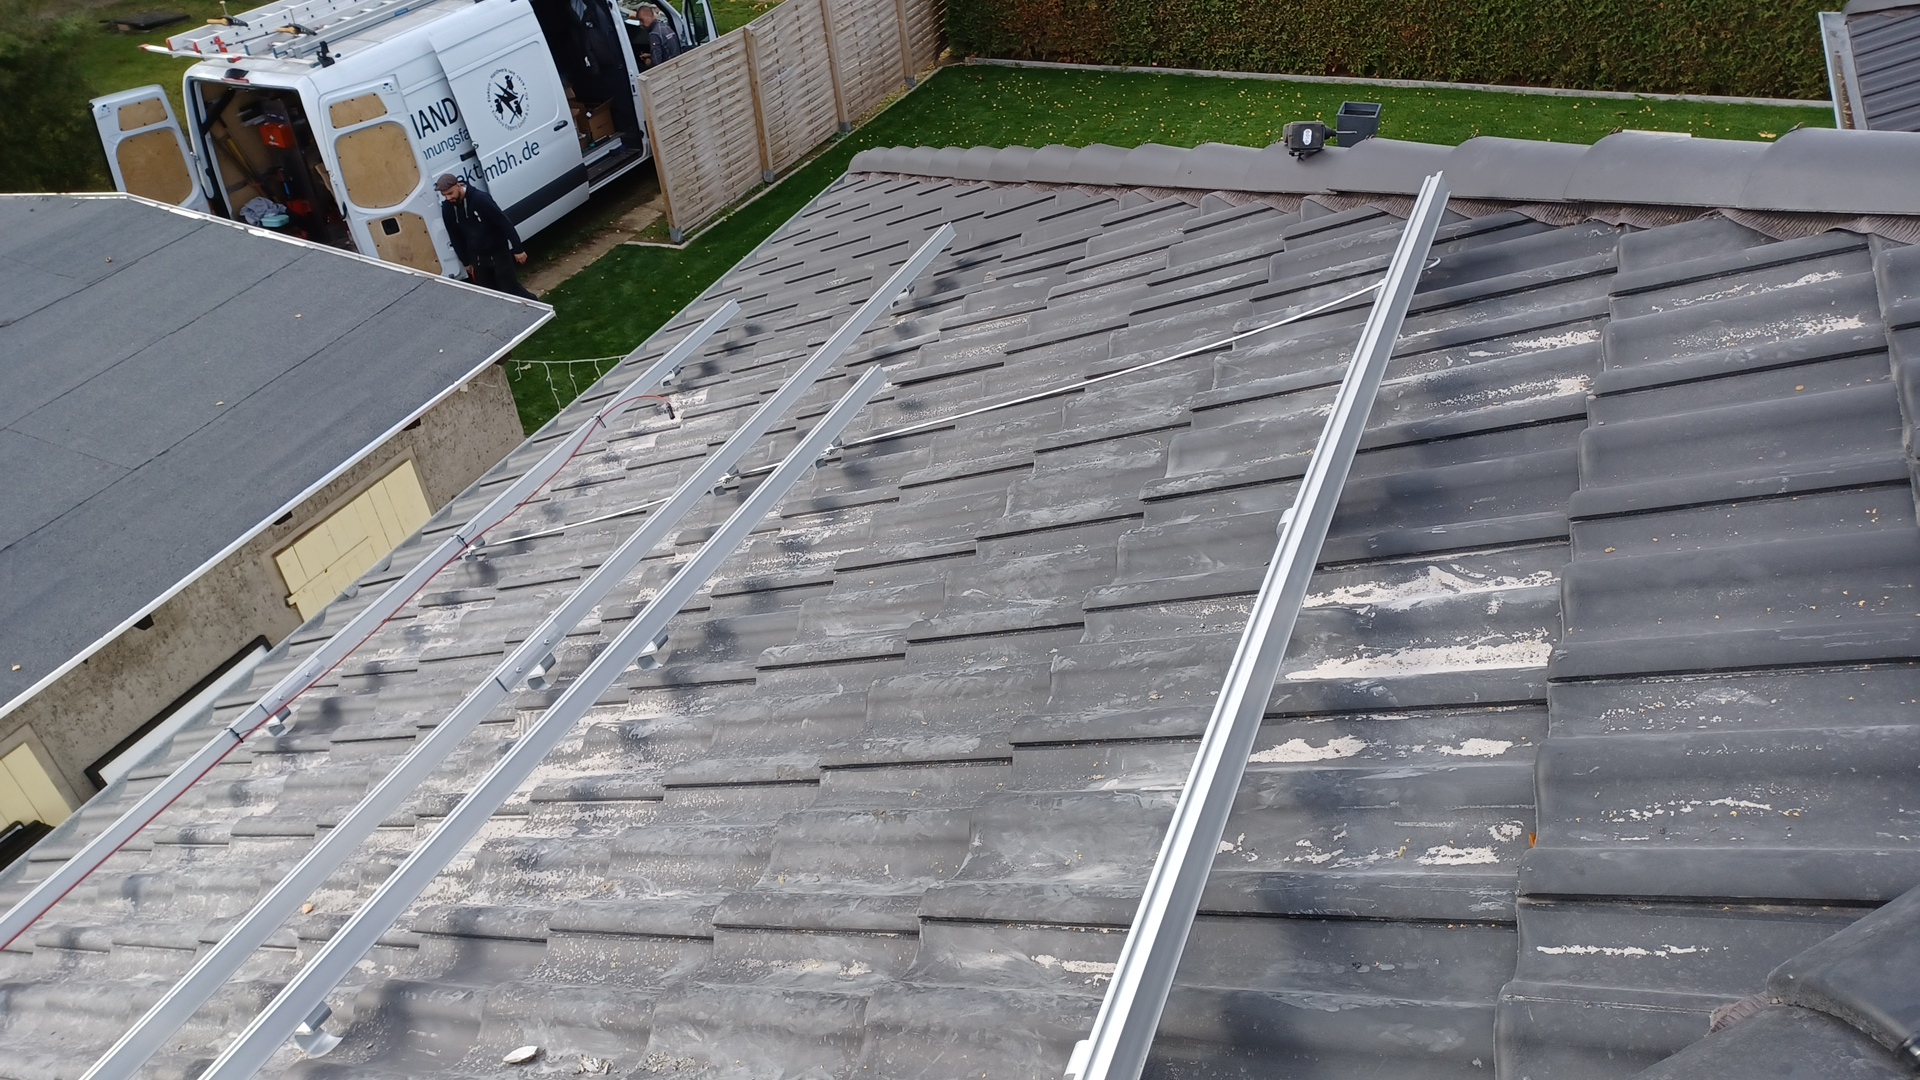hook: (294, 1000, 345, 1058), (636, 626, 669, 670), (526, 647, 556, 692), (1063, 1040, 1092, 1080), (814, 434, 843, 469), (709, 464, 740, 497), (266, 704, 291, 736), (889, 281, 915, 309), (462, 535, 485, 563), (1276, 506, 1294, 538), (659, 364, 682, 388), (1373, 278, 1386, 301)
